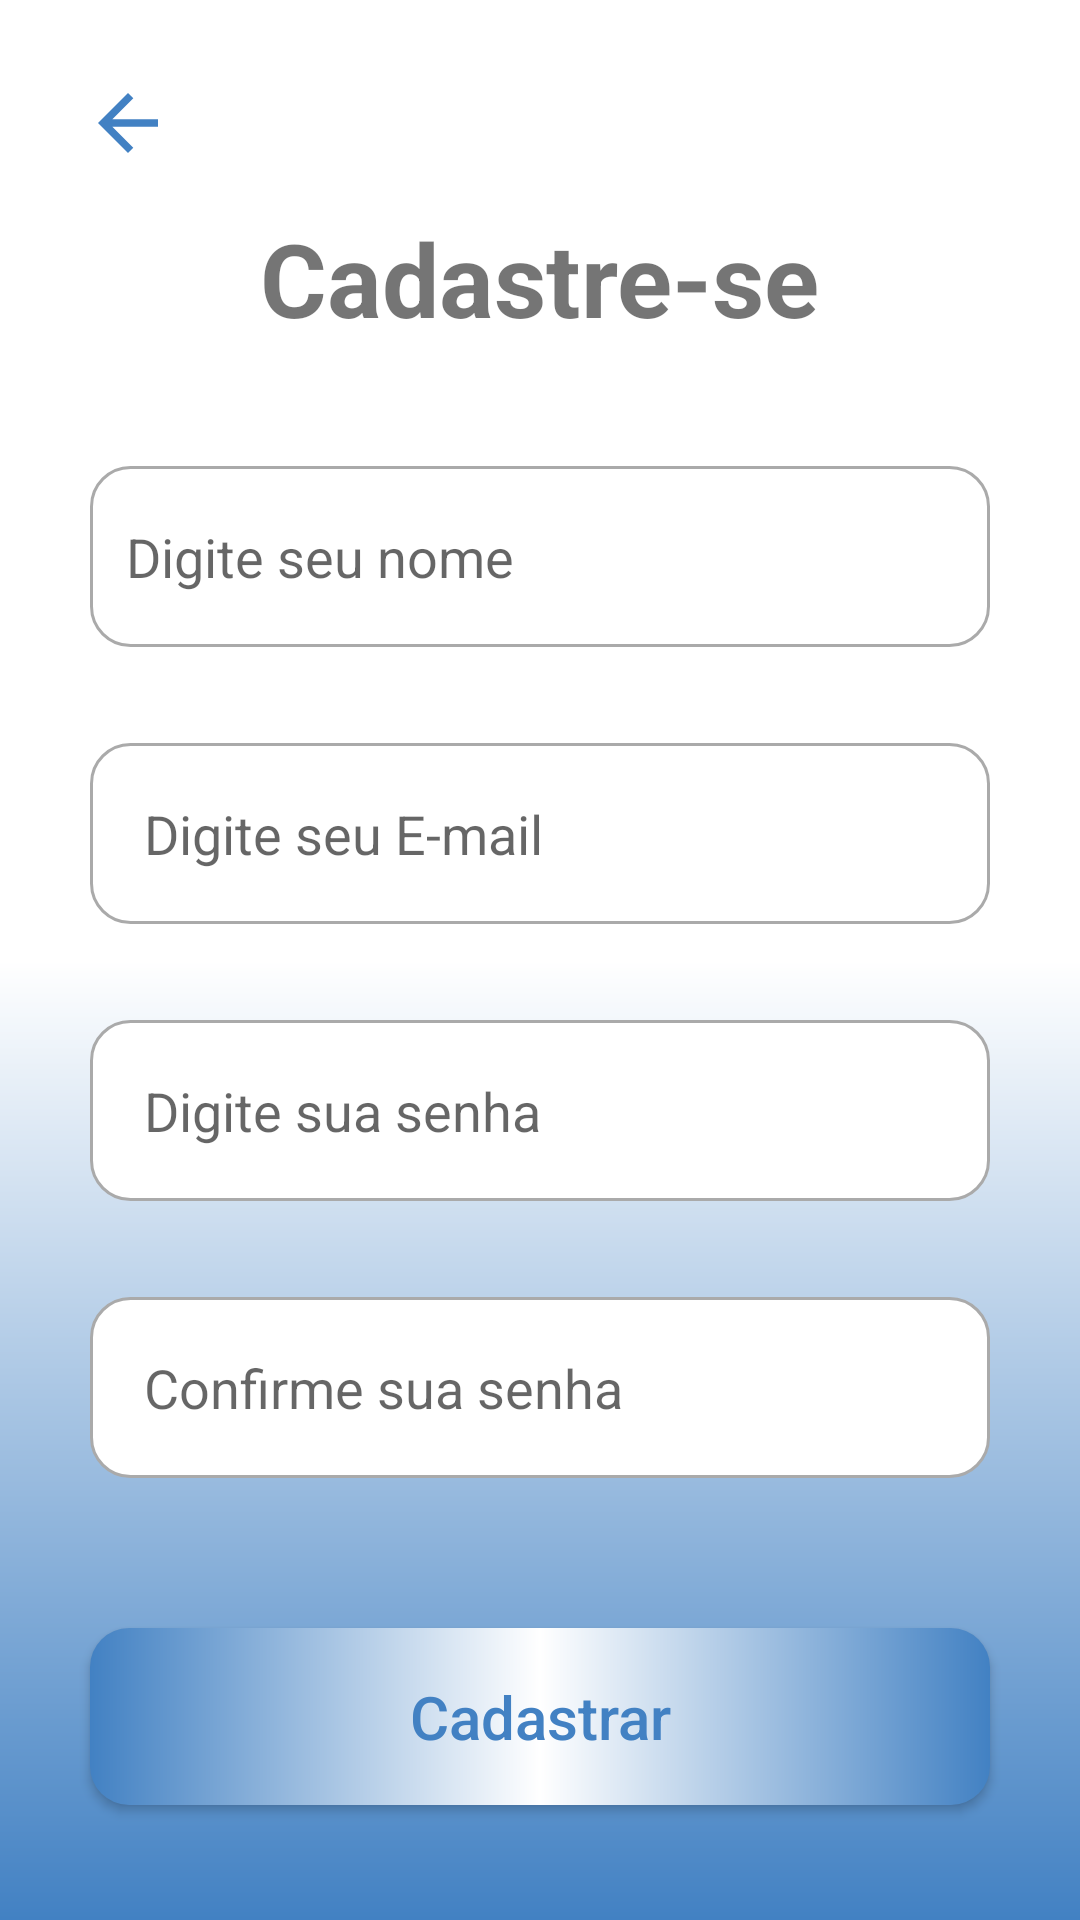

Named icons in this screenshot (1080 × 1920) and their centers, (x=x, y=y):
back: (x=128, y=123)
